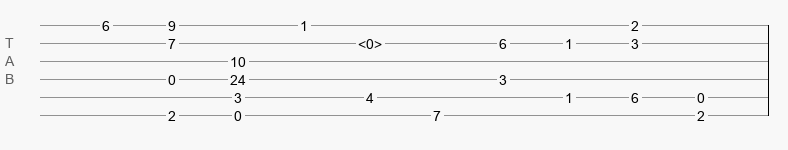0: (168, 72, 176, 82), (234, 108, 242, 118), (697, 90, 705, 100)
1: (300, 18, 308, 28), (565, 90, 573, 100), (565, 36, 573, 46)
10: (230, 54, 246, 64)
2: (168, 108, 176, 118), (631, 18, 639, 28), (697, 108, 705, 118)
24: (230, 72, 246, 82)
3: (234, 90, 242, 100), (499, 72, 507, 82), (631, 36, 639, 46)
4: (366, 90, 374, 100)
6: (102, 18, 110, 28), (499, 36, 507, 46), (631, 90, 639, 100)
7: (168, 36, 176, 46), (433, 108, 441, 118)
9: (168, 18, 176, 28)
harmonic: (358, 36, 382, 46)
